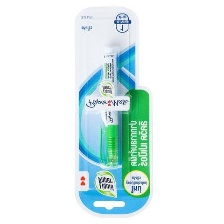book: (71, 2, 154, 218)
correction_fluid: (94, 45, 121, 170)
